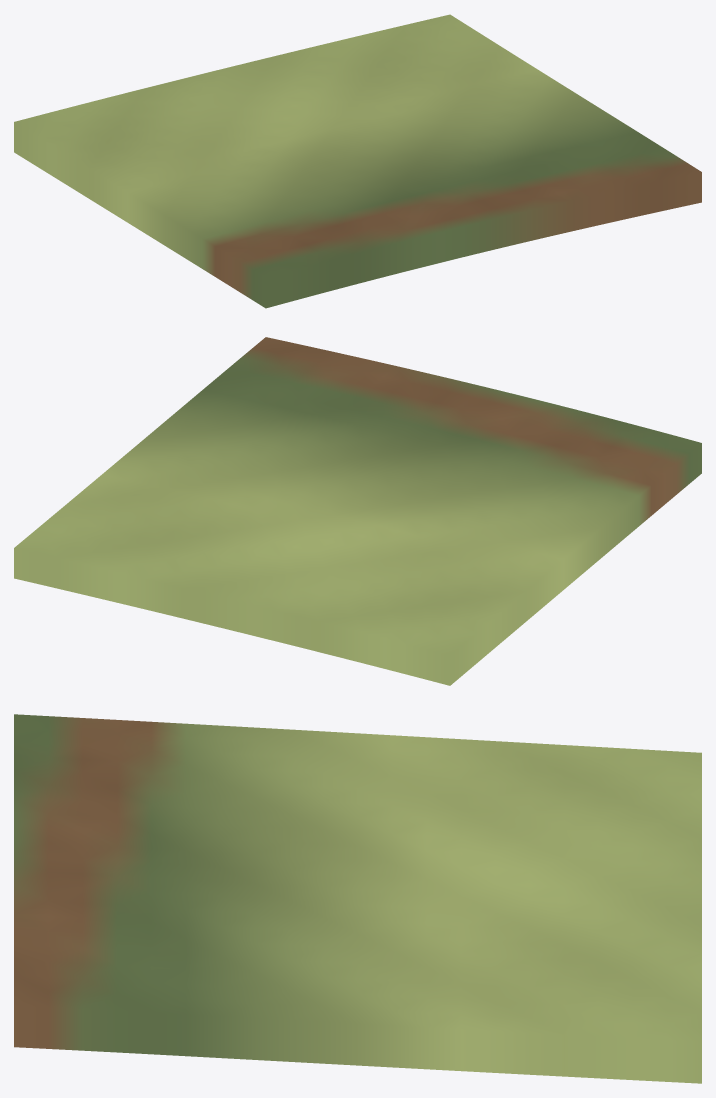
The picture shows the model from 3 angles, top to bottom: view 1: azimuth 30°, elevation 25°; view 2: azimuth 150°, elevation 25°; view 3: azimuth 270°, elevation 25°; orthographic projection. The views are drawn at different scales.
Parts seen in each view (by area): view 1: terrain; view 2: terrain; view 3: terrain.
Boxes of the visible parts, x1,y1,x2,y2 form: terrain: (14, 14, 701, 308); terrain: (14, 337, 701, 685); terrain: (14, 714, 701, 1083).
Bounding box in the file's own units: 30 × 4.06 × 30.
